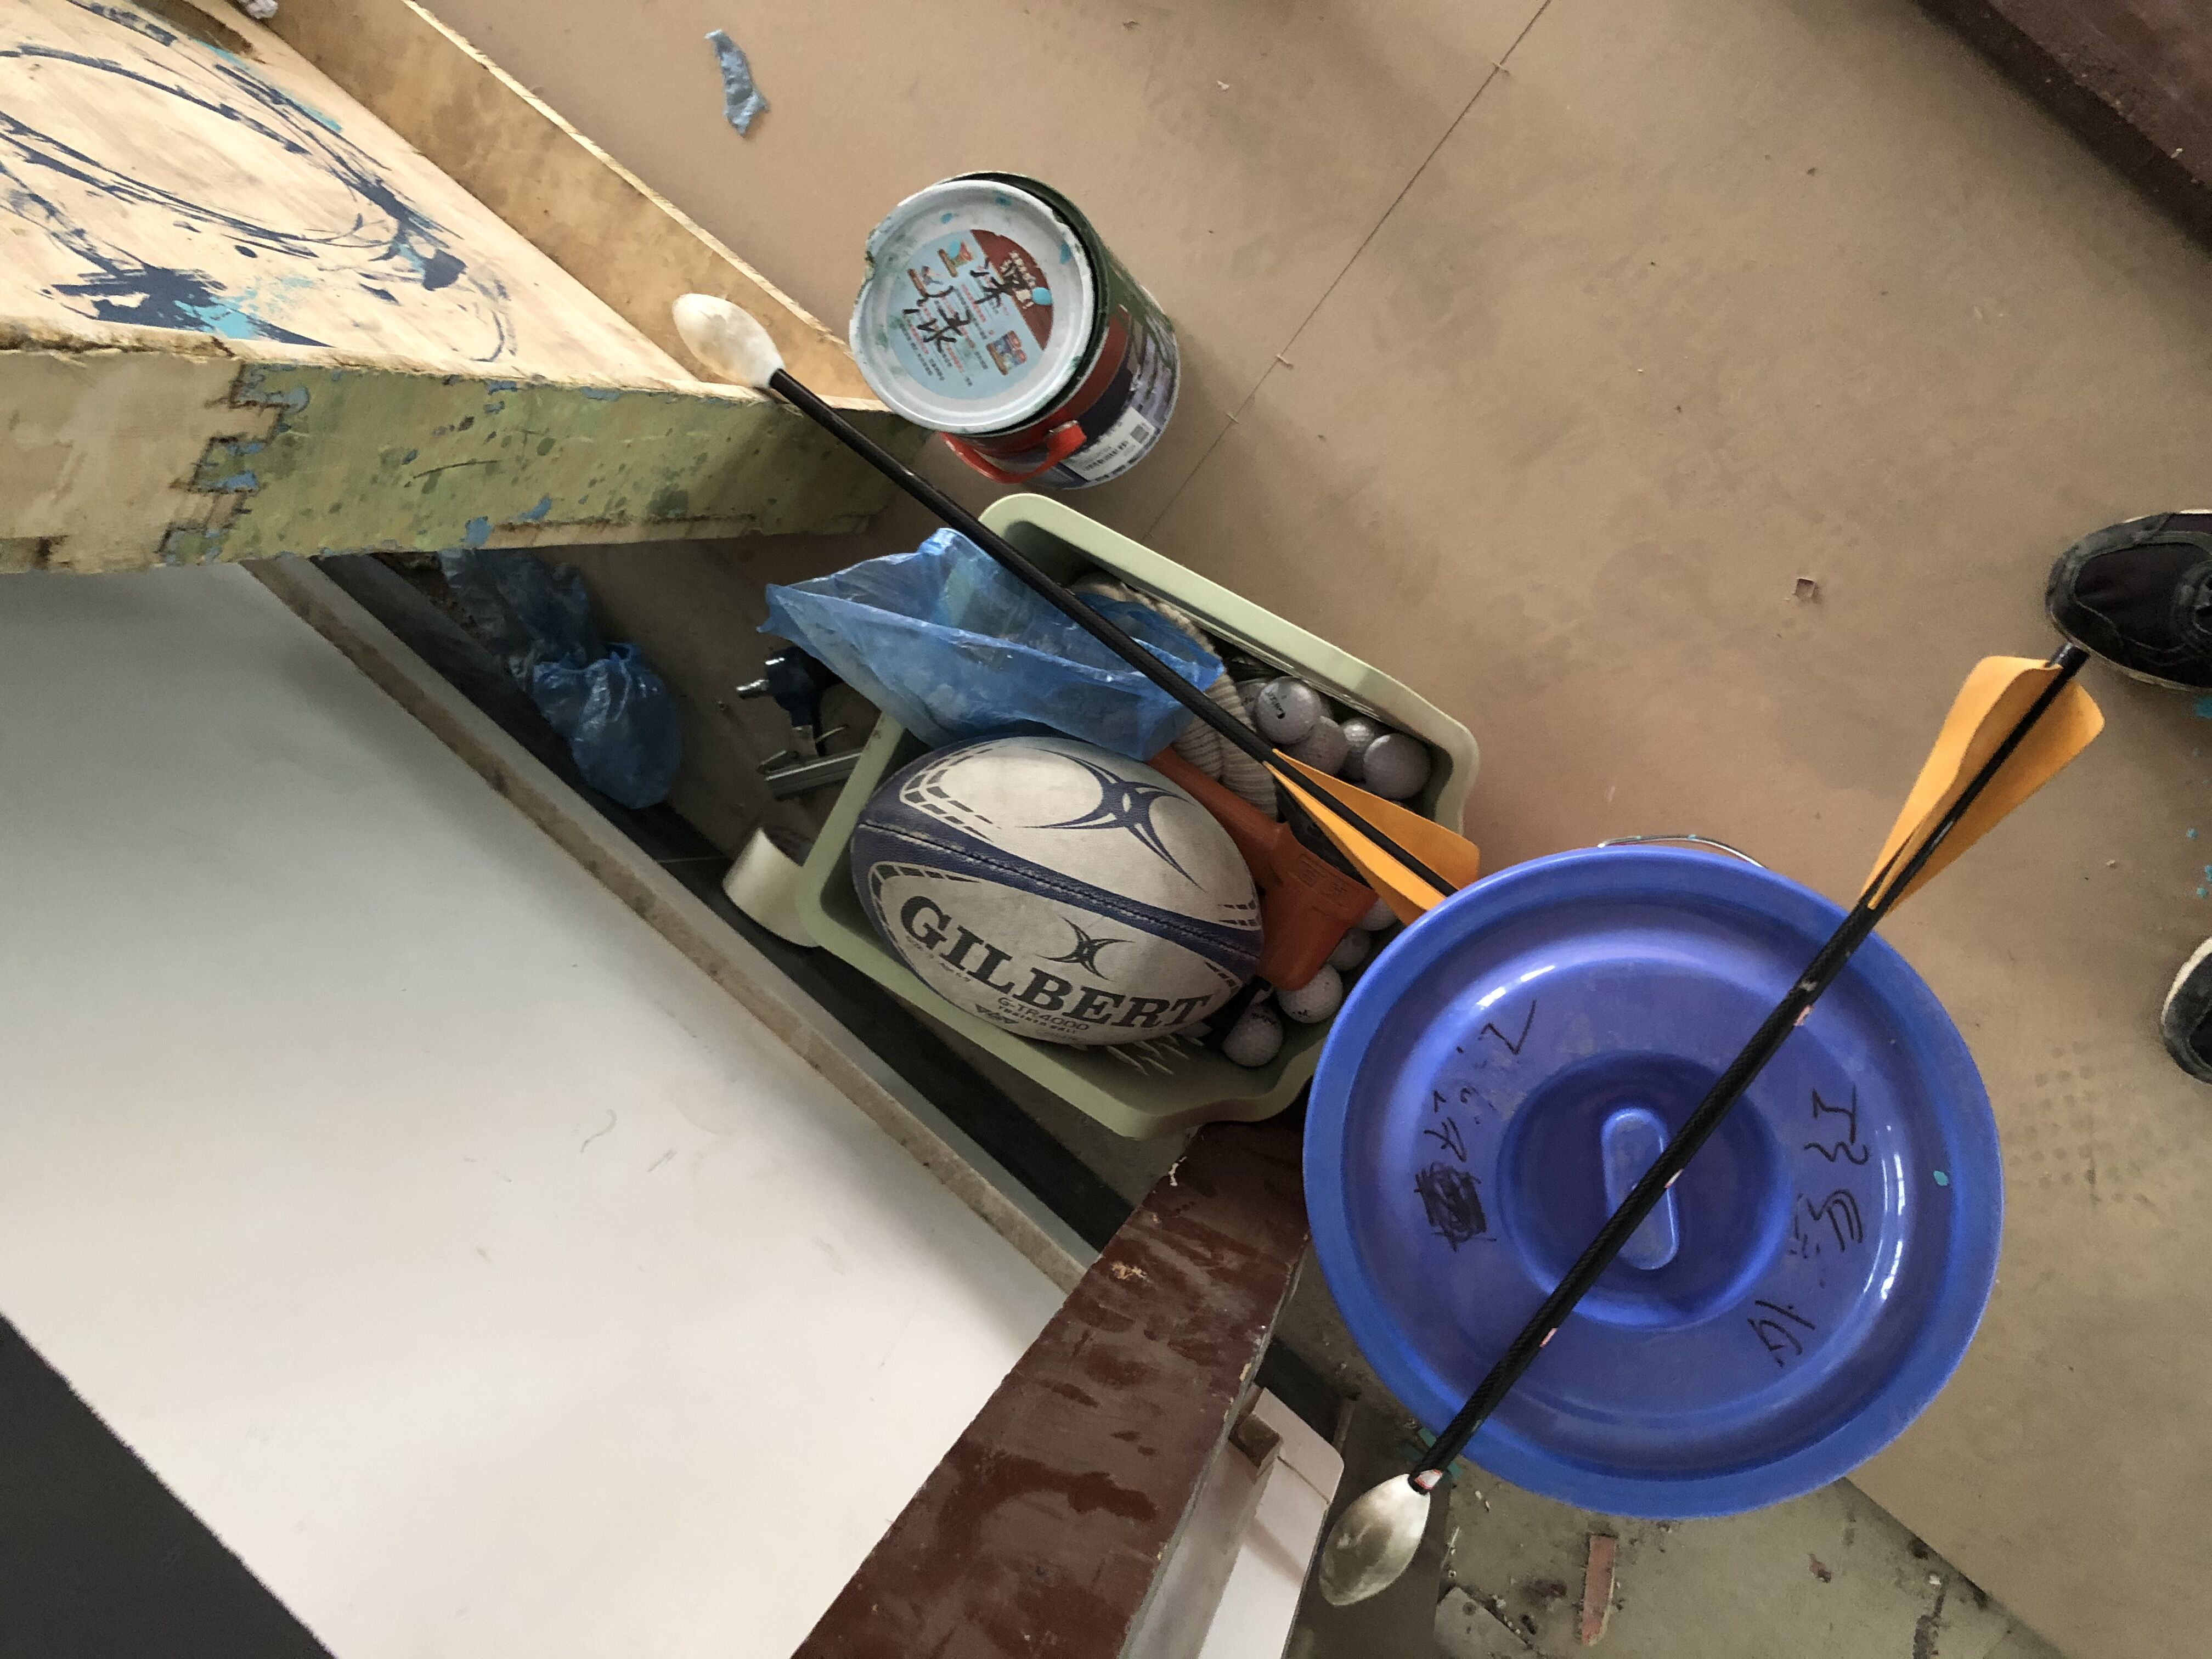arrow: (1318, 643, 2106, 1614), (672, 291, 1480, 929)
arrowFront: (1318, 1467, 1435, 1610), (672, 286, 784, 382)
